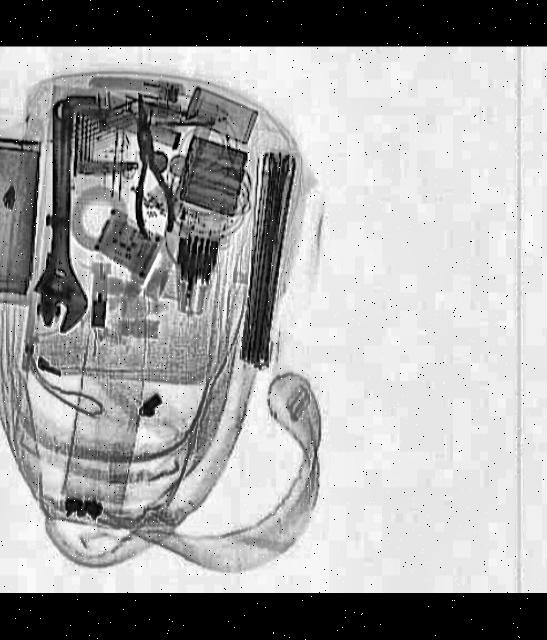Pliers: (120, 91, 179, 242)
Wrench: (30, 100, 92, 335)
